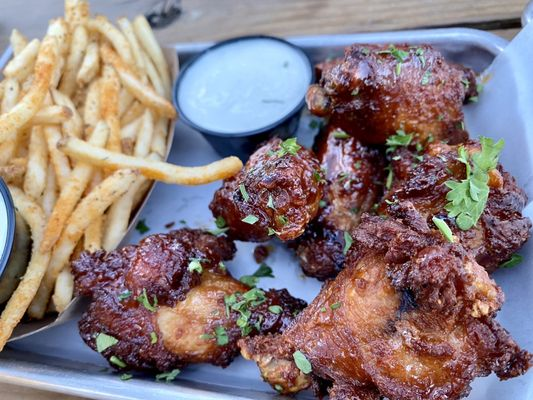sushi: (174, 37, 313, 139)
